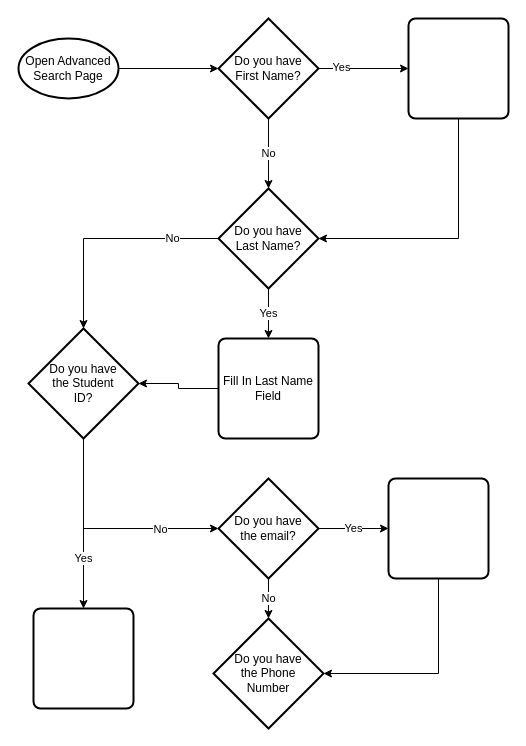
The diagram is 526 pixels wide and 746 high, and some of its shapes have lost their labels. Each missing label, with the box of its shape:
Fill in email field.: (387, 477, 489, 579)
Fill In First Name Field: (407, 17, 509, 119)
Fill In Student ID Field and hit Search!: (32, 607, 134, 709)
